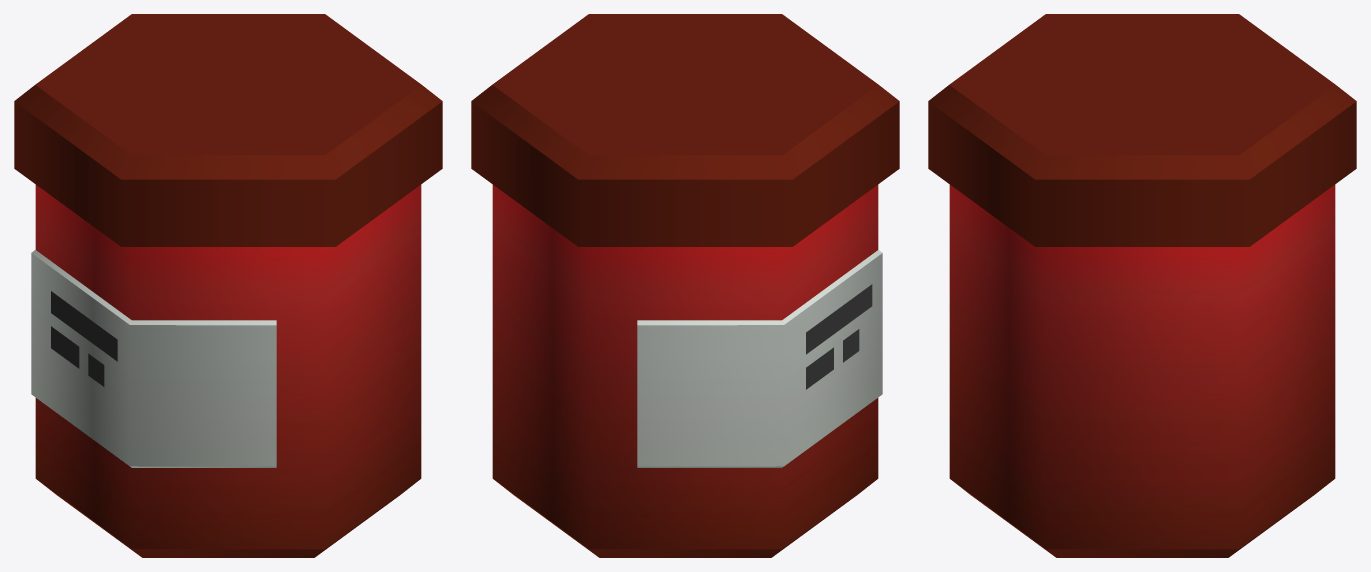
Rendered from Jar_1_F.fbx.
3 renders of one model, left to right at view 1: azimuth 30°, elevation 25°; view 2: azimuth 150°, elevation 25°; view 3: azimuth 270°, elevation 25°, orthographic.
Visible parts, largest first — view 1: Jar_1_F; view 2: Jar_1_F; view 3: Jar_1_F.
Boxes of the visible parts, x1,y1,x2,y2 form: Jar_1_F: (14,14,442,557); Jar_1_F: (471,14,899,557); Jar_1_F: (928,14,1356,557).
Bounding box in the file's own units: 17.99 × 21.94 × 20.77.
